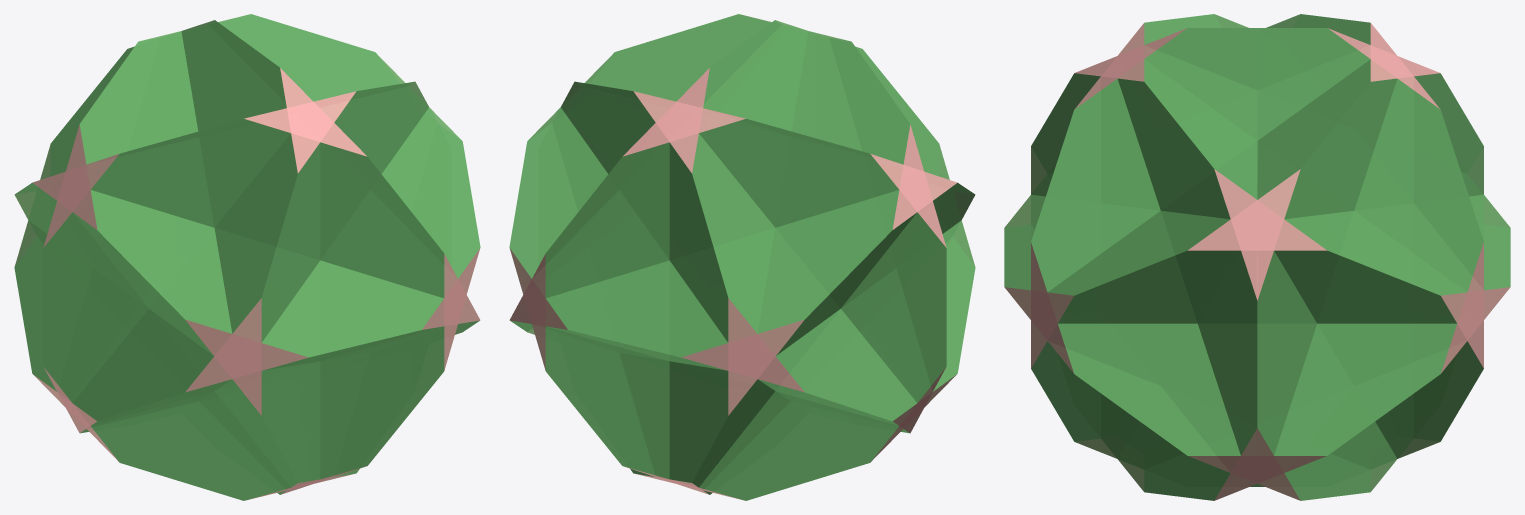
The model's file is TruncatedGreatDodecahedron.obj.
The picture shows the model from 3 angles, left to right: view 1: azimuth 30°, elevation 25°; view 2: azimuth 150°, elevation 25°; view 3: azimuth 270°, elevation 25°; orthographic projection. The views are drawn at different scales.
Size of the model in its own units: 3.62 by 3.62 by 3.62.
